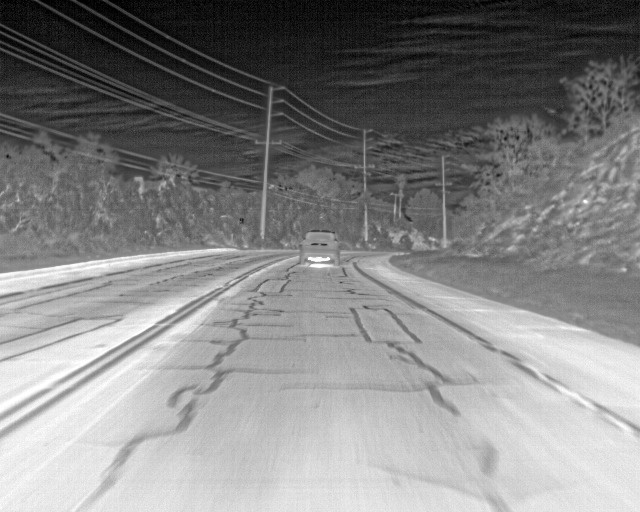vehicle: (301, 228, 342, 265)
